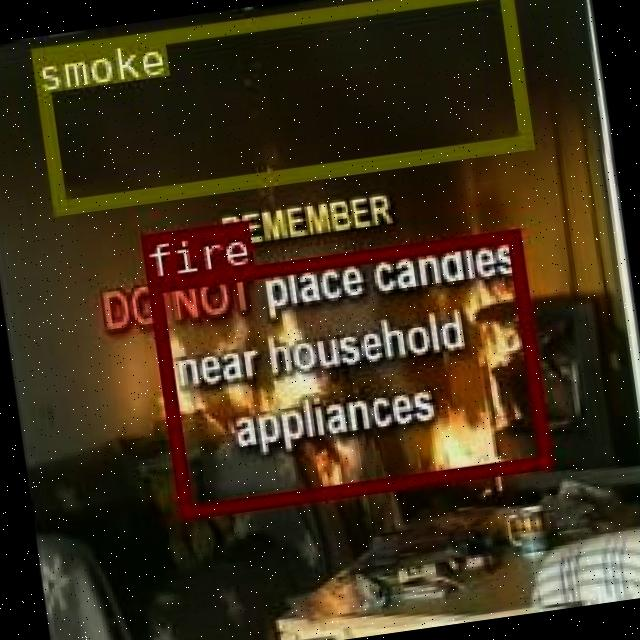fire: (144, 228, 549, 518)
smoke: (28, 0, 532, 211)
